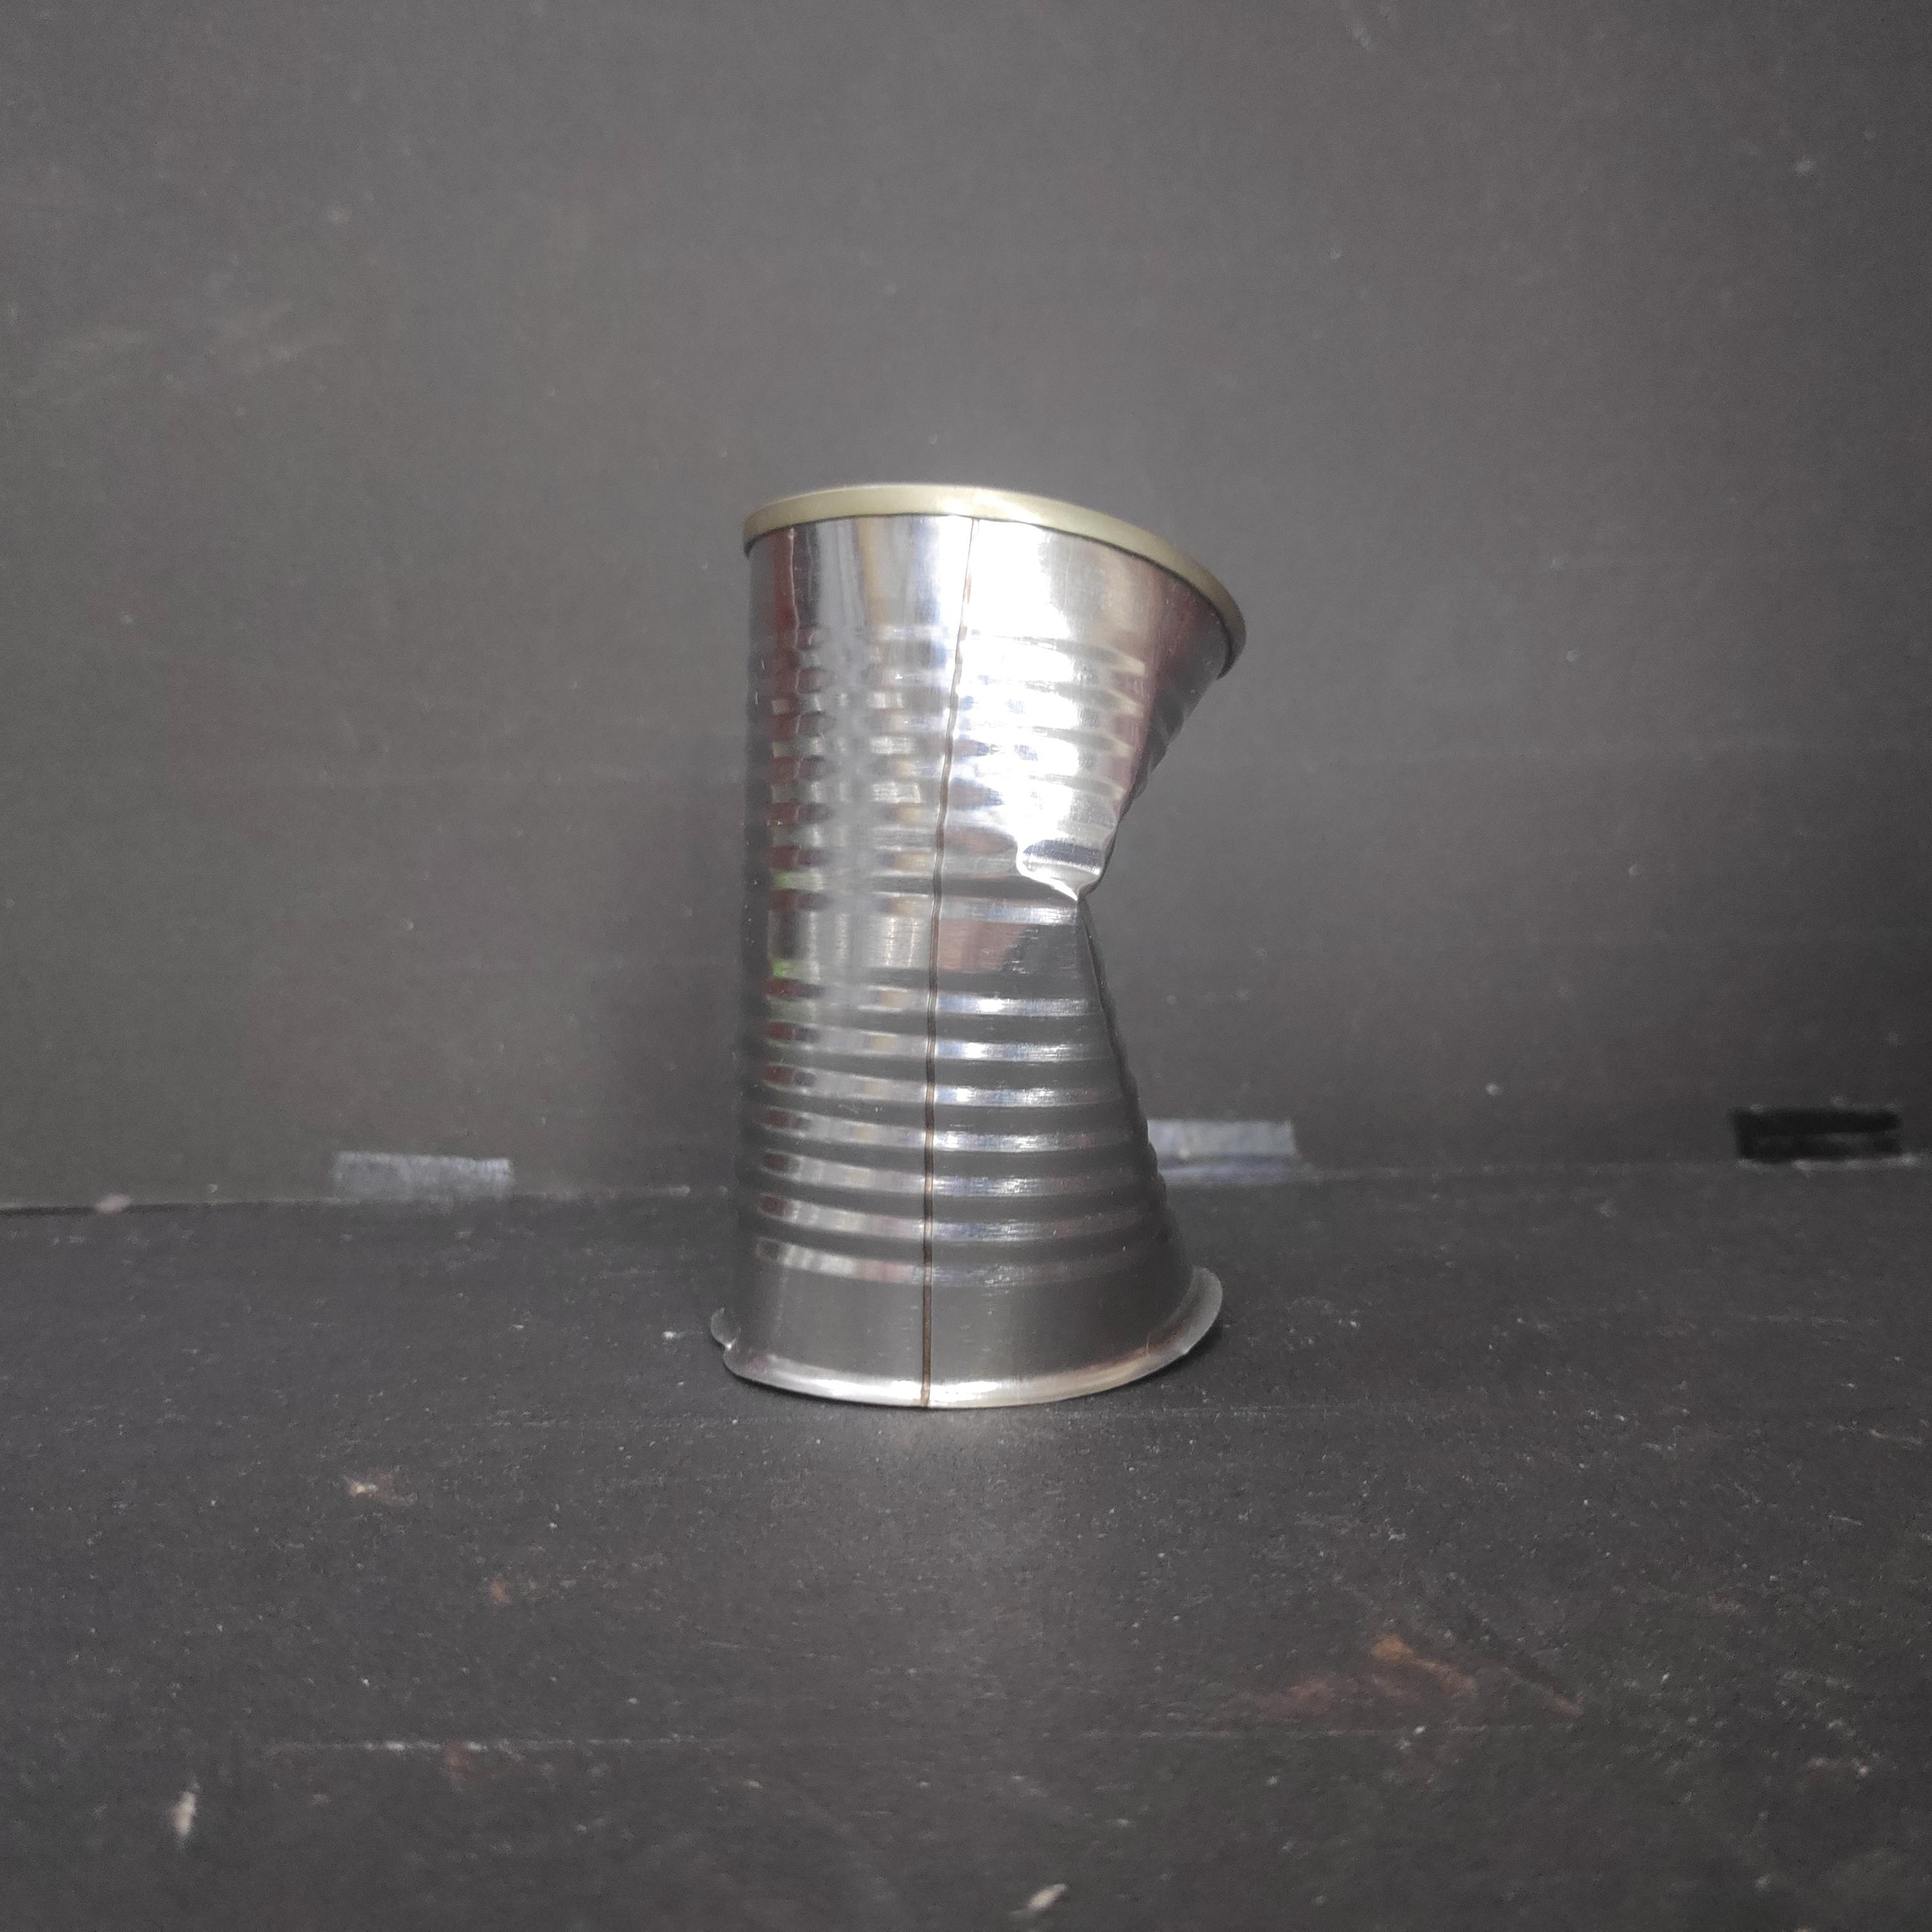Major Defect: (704, 473, 1250, 1420)
